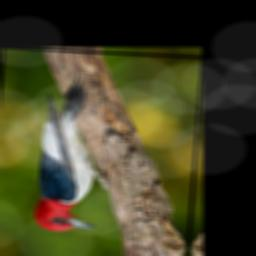Woodpecker: (28, 69, 121, 233)
